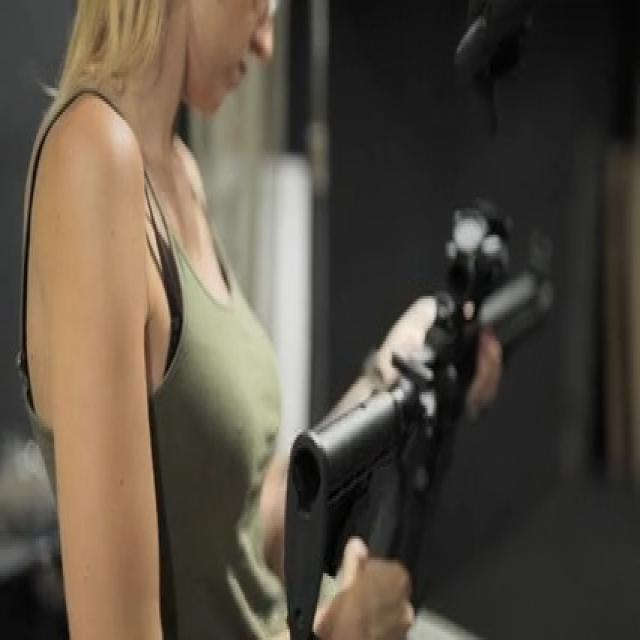Gun_Holder: (274, 187, 628, 640)
Person: (19, 0, 412, 640)
